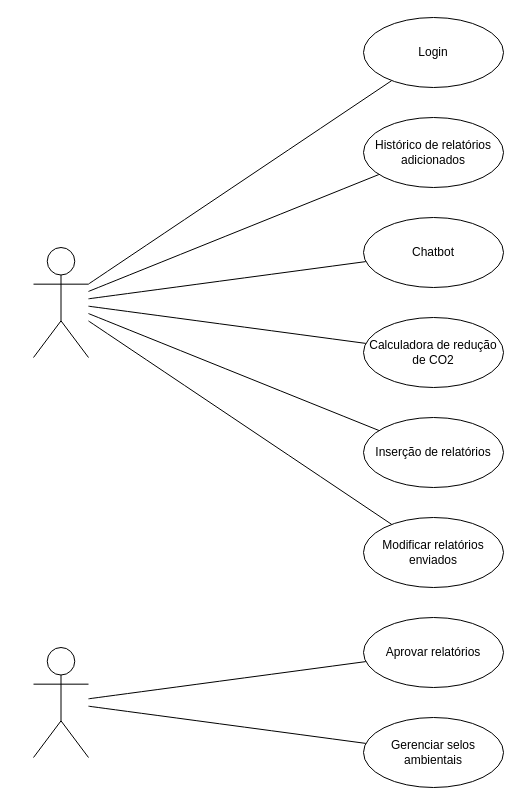
Image size: 521x811. Some labels were removed from this diagram. The shapes that lost their labels are listed below. From the top down, each one's box as (x1, y1, x2, y2) in pixels, then its label:
(32, 246, 88, 358): Funcionário de sustentabilidade
(32, 646, 88, 758): Gerente de sustentabilidade
